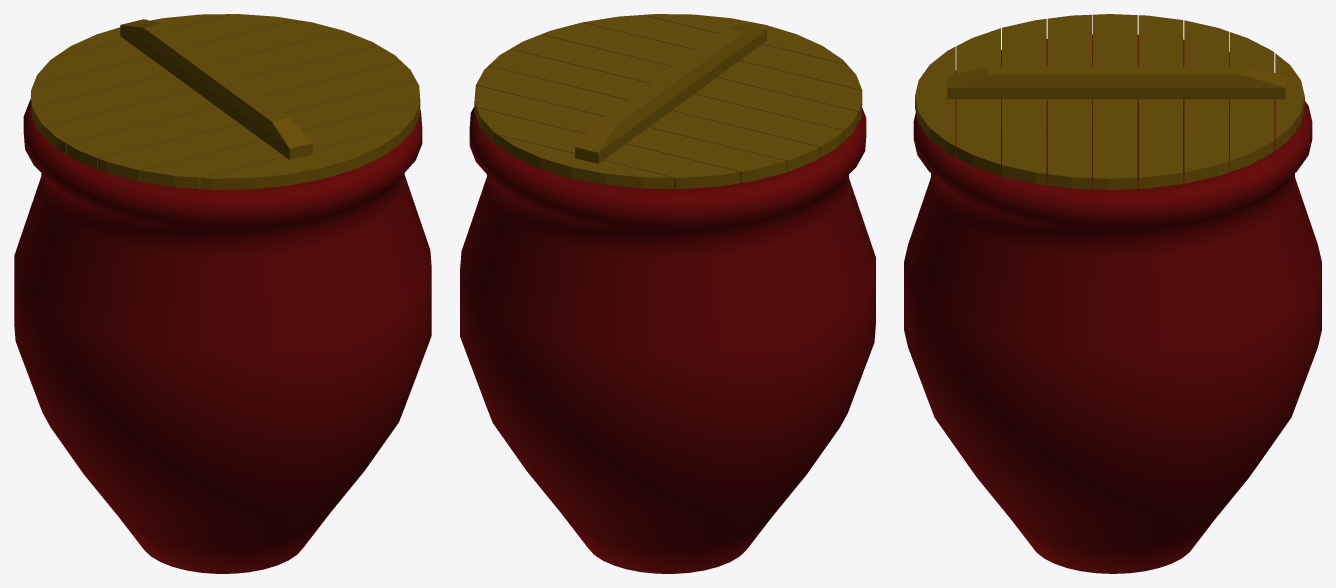
Rendered from tubo.fbx.
3 views of the same model, side by side, from view 1: azimuth 30°, elevation 25°; view 2: azimuth 150°, elevation 25°; view 3: azimuth 270°, elevation 25° (orthographic).
Visible parts, largest first — view 1: 水壺（小）, 水壺フタ; view 2: 水壺（小）, 水壺フタ; view 3: 水壺（小）, 水壺フタ.
Part boxes in pixels (<box>): 水壺（小）: <box>14,99,431,573</box>; 水壺フタ: <box>31,14,420,189</box>; 水壺（小）: <box>460,107,875,573</box>; 水壺フタ: <box>474,14,862,189</box>; 水壺（小）: <box>904,34,1321,573</box>; 水壺フタ: <box>915,14,1304,189</box>.
Size of the model in its own units: 36.67 by 45.09 by 36.67.
